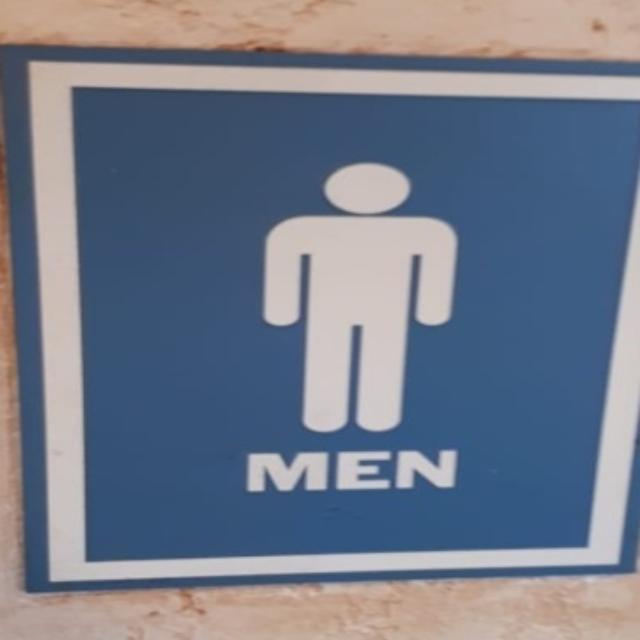wc nam: (4, 50, 638, 588)
